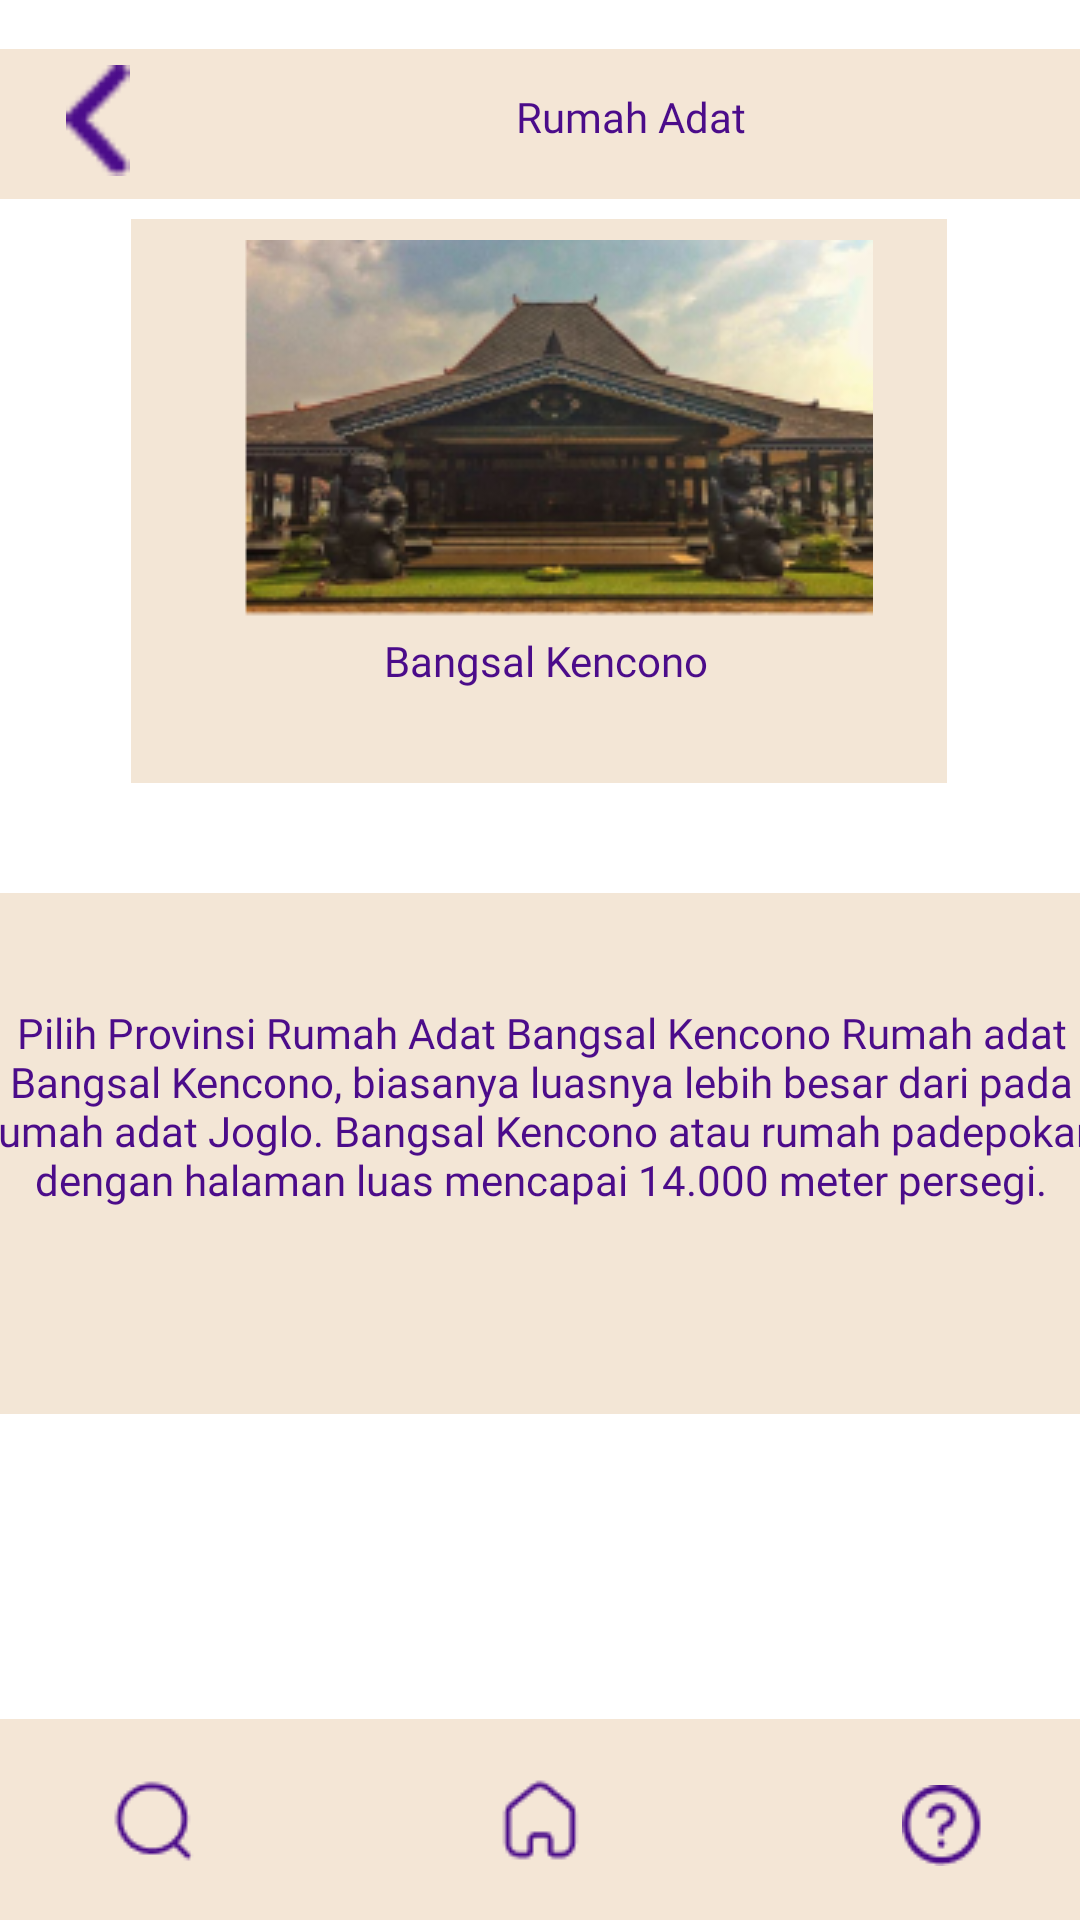

Icon click points for this 1080px x 1920px phone screenshot, format [x,y]:
homeee: [540,1820]
tanya: [941,1825]
xearch: [152,1821]
